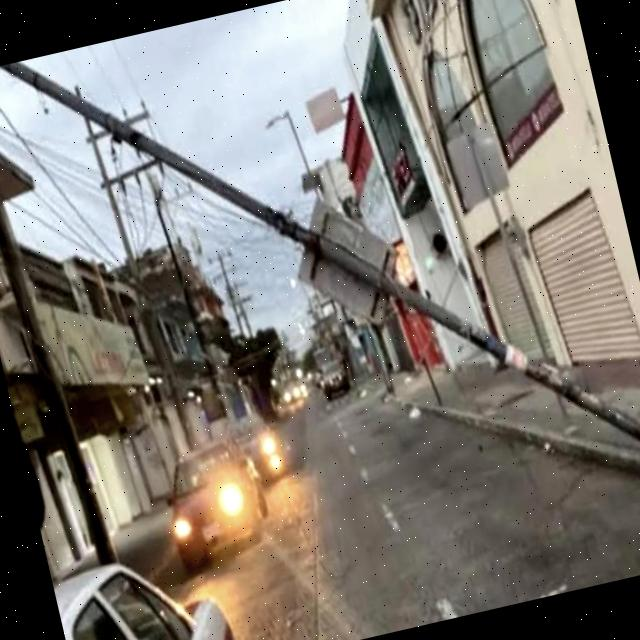Broken Pole: (0, 62, 640, 443)
